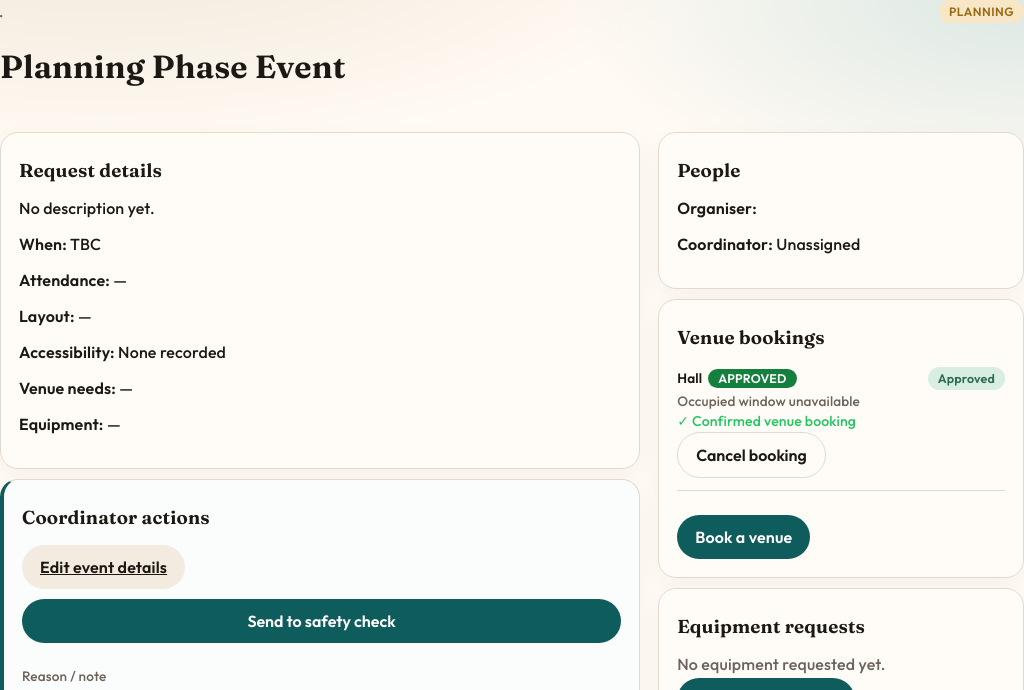
it: EventDetail SCRUM-17 & Base tests › SCRUM-19 AC7: Conflict modal vs standard errors in EventDetail › opens ConflictModal when a coordinator request returns BOOKING_CONFLICT
Click the button "Send to safety check".
click(322, 621)  # box [22,599,621,643]
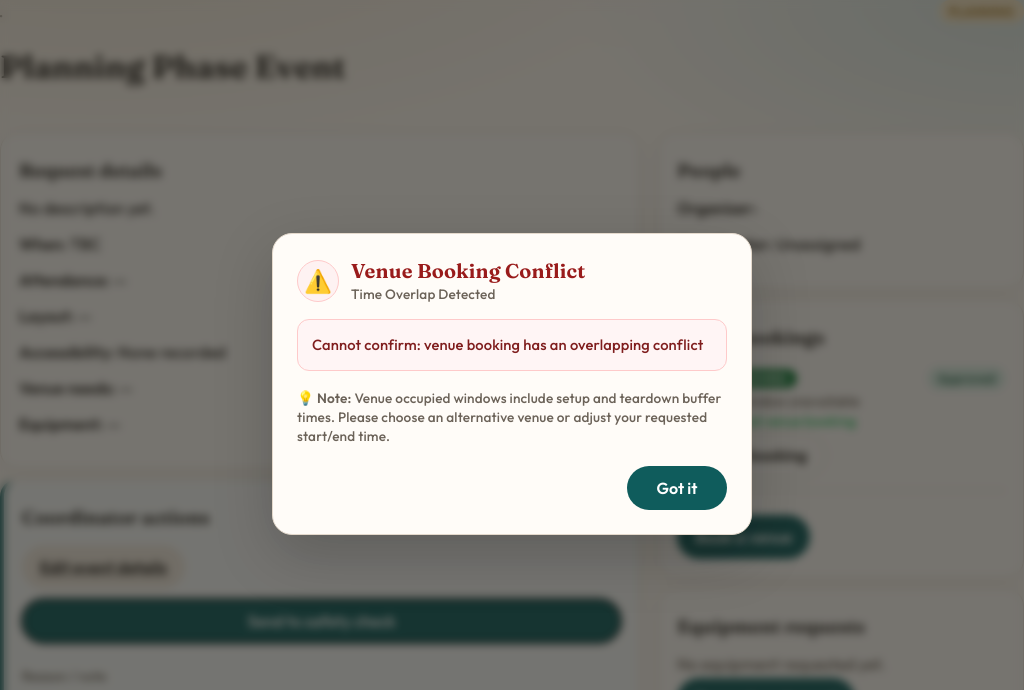
Now the heading "Venue Booking Conflict" is shown, box [351,258,586,283]
Now the text "Cannot confirm: venue booking has an overlapping conflict" is shown, box [312,334,712,356]
